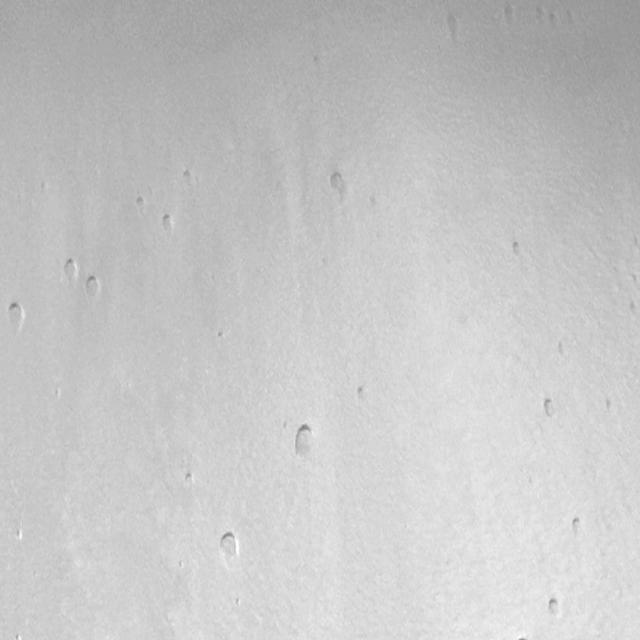pin holes: (290, 422, 318, 462), (214, 530, 242, 568), (326, 170, 351, 205), (3, 300, 26, 334), (444, 12, 466, 40), (545, 595, 566, 623), (60, 257, 80, 286), (539, 395, 560, 422), (567, 514, 587, 541), (84, 274, 102, 303), (158, 213, 178, 239), (556, 338, 575, 362), (354, 384, 372, 407), (600, 395, 618, 418), (510, 238, 524, 258), (134, 194, 148, 213), (182, 167, 196, 186), (185, 470, 198, 490), (232, 593, 245, 609), (216, 329, 230, 343), (14, 526, 26, 542), (175, 557, 187, 572), (14, 630, 25, 640)
